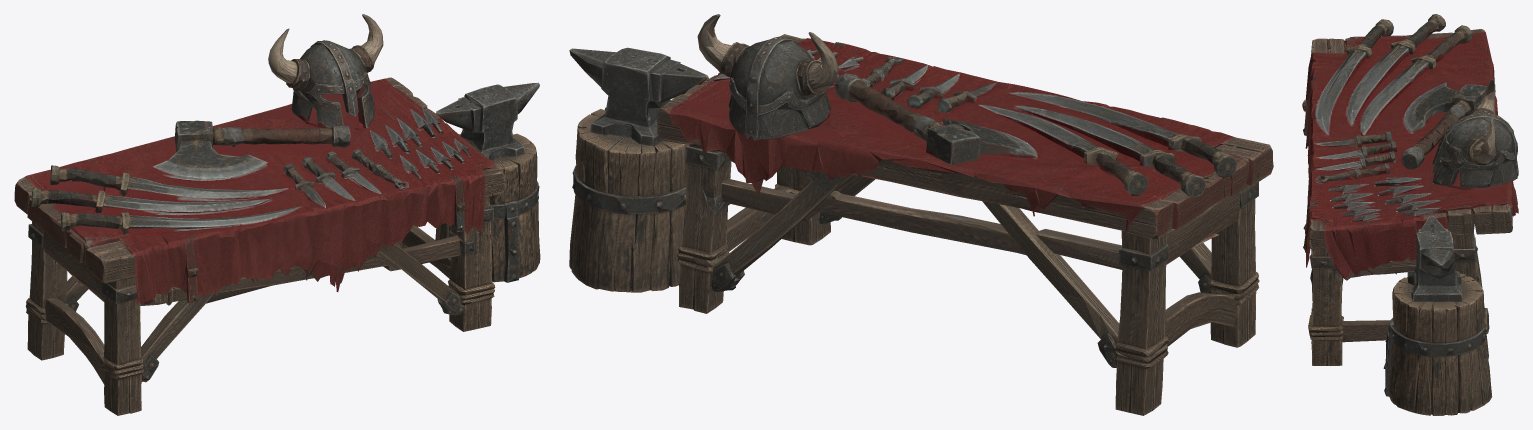
The model's file is weapon_table.glb.
3 views of the same model, side by side, from view 1: azimuth 30°, elevation 25°; view 2: azimuth 150°, elevation 25°; view 3: azimuth 270°, elevation 25° (orthographic). The views are drawn at different scales.
Parts seen in each view (by area): view 1: Mesh_0; view 2: Mesh_0; view 3: Mesh_0.
Boxes of the visible parts, bbox=[...] form: Mesh_0: bbox=[14, 14, 540, 415]; Mesh_0: bbox=[569, 14, 1273, 415]; Mesh_0: bbox=[1302, 14, 1518, 415].
Bounding box in the file's own units: 2.4 × 1.13 × 0.9345.
Materials: 1 (1 with a texture image).
